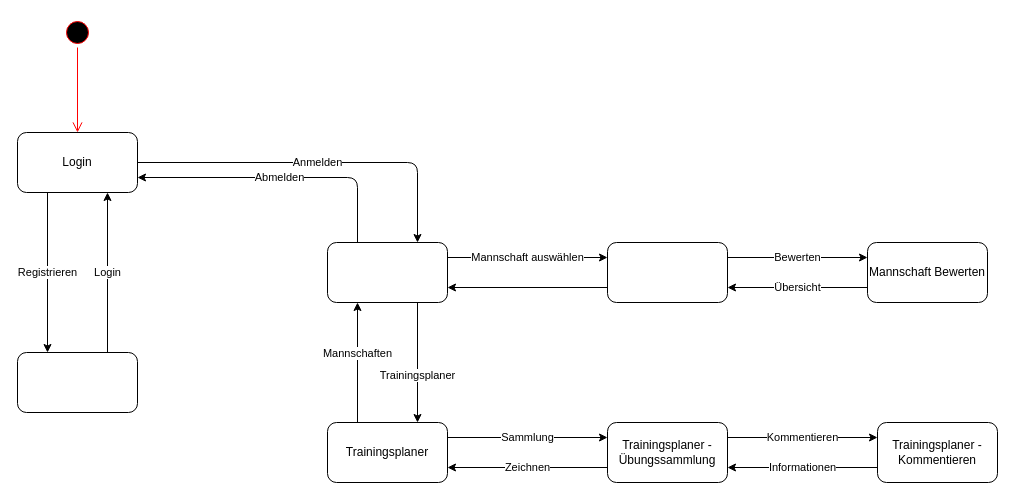
This 1015x500 diagram has some shape labels left out. The centre of each missing label's shape, as x and y in pixels:
"Home Mannschaften" belongs at pixel 387 272.
"Mannschaft Übersicht" belongs at pixel 667 272.
"Register" belongs at pixel 77 382.
